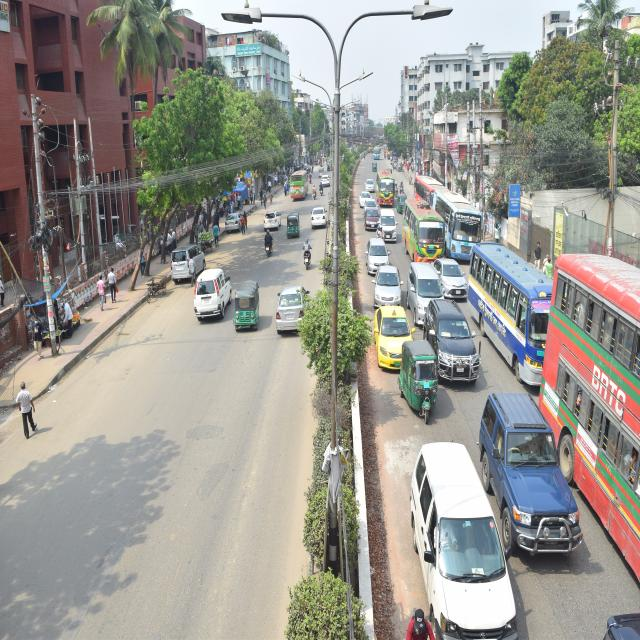bus: (542, 233, 640, 602), (462, 225, 556, 402), (427, 180, 485, 262), (394, 196, 448, 268), (407, 168, 440, 210), (374, 164, 399, 212), (290, 154, 312, 203)
car: (468, 392, 587, 558), (368, 298, 416, 376), (275, 278, 317, 334), (432, 250, 469, 303), (372, 263, 408, 309), (372, 207, 404, 245), (358, 236, 385, 270), (357, 206, 385, 238), (256, 201, 284, 230), (220, 208, 246, 238), (312, 202, 328, 228), (356, 188, 369, 205), (364, 173, 374, 189)
microbus: (413, 431, 517, 640), (424, 300, 478, 389), (191, 266, 227, 339), (400, 256, 442, 316), (171, 240, 203, 286)
motorbike: (255, 227, 276, 265), (299, 241, 315, 270), (311, 185, 319, 199), (396, 182, 404, 194)
